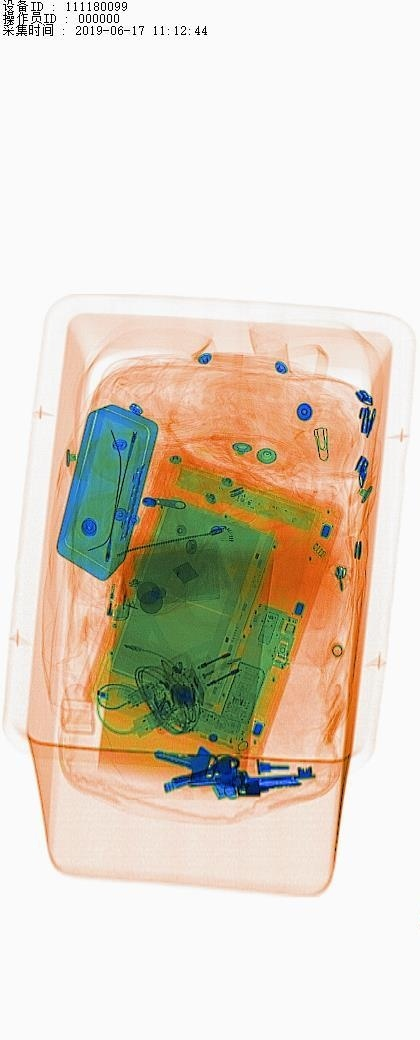NonmetallicFire: (91, 514, 148, 628)
